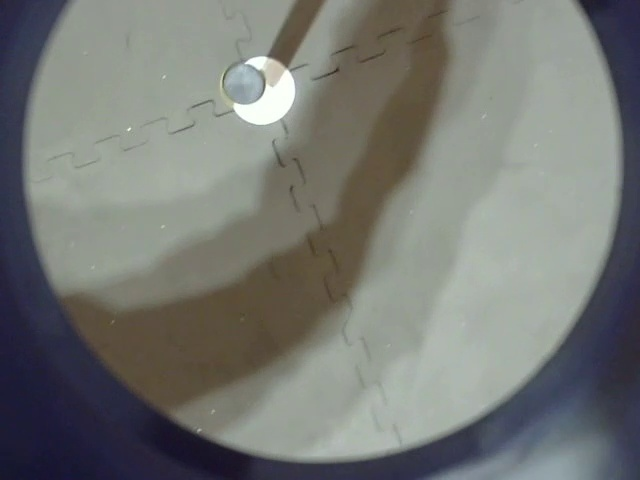tip: (215, 48, 277, 111)
